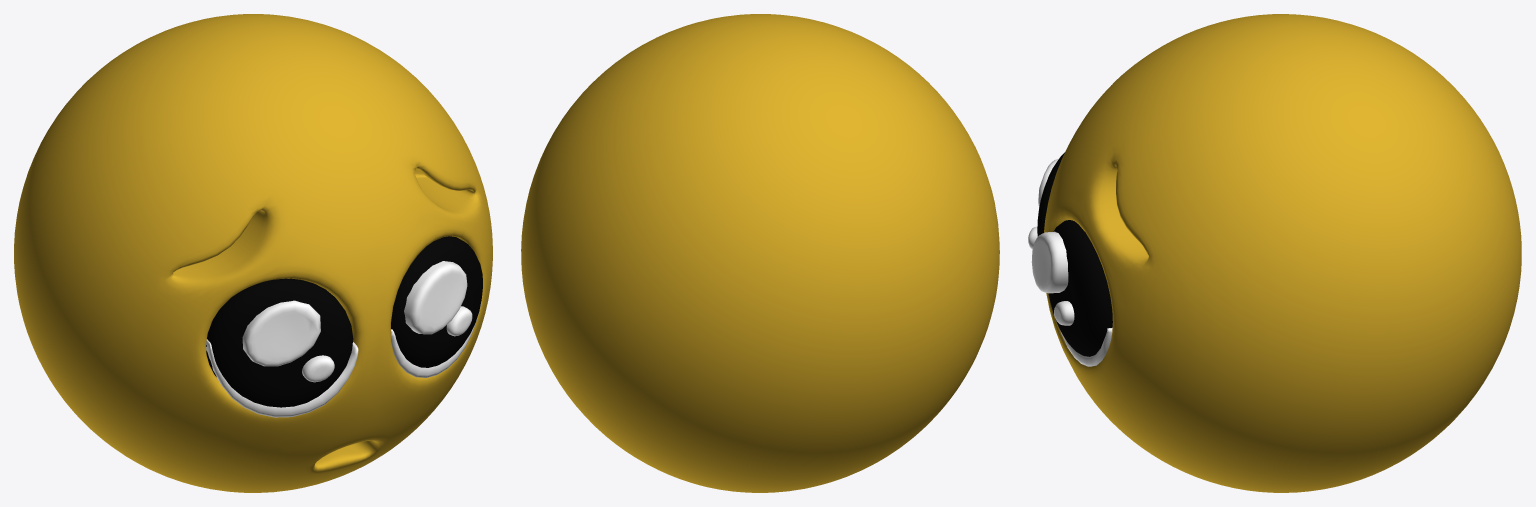
Rendered from pleading eyes.glb.
The picture shows the model from 3 angles, left to right: view 1: azimuth 30°, elevation 25°; view 2: azimuth 150°, elevation 25°; view 3: azimuth 270°, elevation 25°; orthographic projection.
Visible parts, largest first — view 1: Pleading_Eyes, Pleading_Eyes4, Pleading_Eyes2, Pleading_Eyes5, Pleading_Eyes3; view 2: Pleading_Eyes; view 3: Pleading_Eyes, Pleading_Eyes4, Pleading_Eyes2, Pleading_Eyes3, Pleading_Eyes5.
Boxes of the visible parts, left/top/right/bottom form: Pleading_Eyes: left=14, top=14, right=492, bottom=492; Pleading_Eyes4: left=206, top=236, right=482, bottom=407; Pleading_Eyes2: left=242, top=261, right=467, bottom=366; Pleading_Eyes5: left=206, top=292, right=482, bottom=417; Pleading_Eyes3: left=302, top=306, right=472, bottom=382; Pleading_Eyes: left=521, top=14, right=999, bottom=492; Pleading_Eyes: left=1044, top=14, right=1521, bottom=492; Pleading_Eyes4: left=1037, top=152, right=1112, bottom=356; Pleading_Eyes2: left=1031, top=159, right=1068, bottom=293; Pleading_Eyes3: left=1028, top=226, right=1074, bottom=325; Pleading_Eyes5: left=1060, top=327, right=1112, bottom=366.
Bounding box in the file's own units: 0.5765 × 0.5769 × 0.5946.
